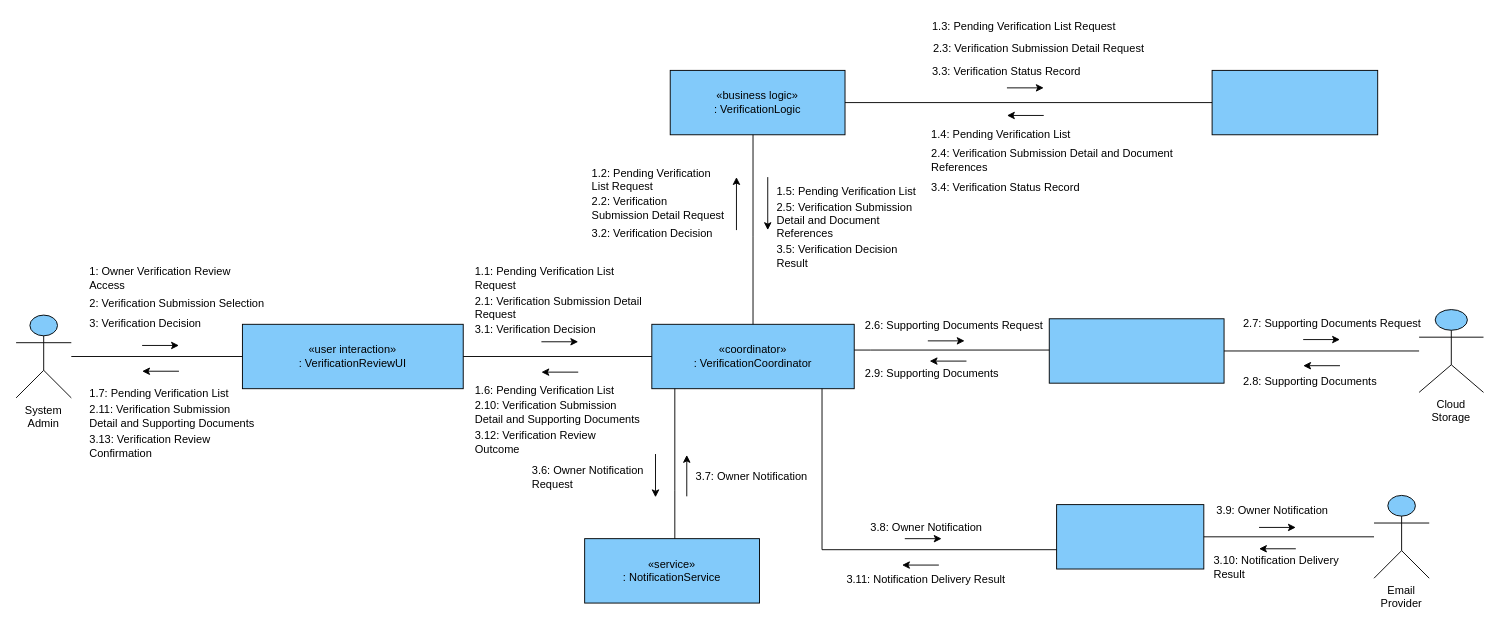
Image size: 1500x627. Some labels were removed from this diagram. The shapes that lost their labels are listed below. From the top down, each one's box as (x1, y1, x2, y2) in pixels, then its label:
(1211, 69, 1378, 135): «entity» : OwnerVerification
(1048, 318, 1224, 383): «proxy» : CloudStorageProxy
(1056, 504, 1204, 569): «proxy» : EmailProxy
